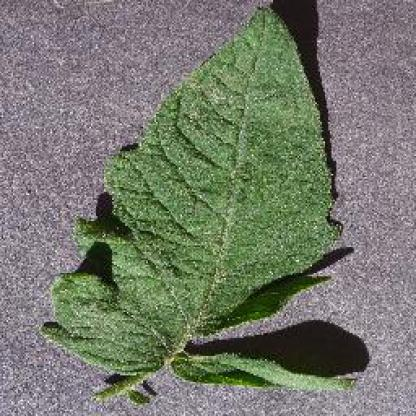bad leaf: (113, 10, 279, 206), (78, 240, 260, 414), (172, 78, 326, 278), (181, 330, 358, 390)
